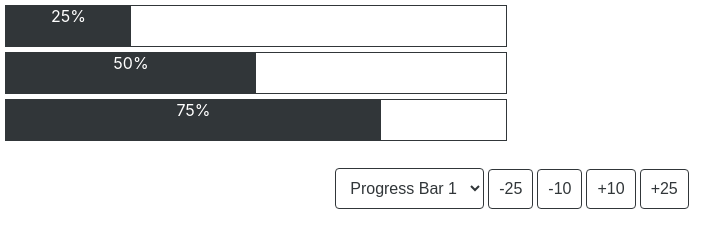
Test: progress bars should be allowed to go past 100% › should allow the second progress to exceed past 100%
# select the second progress bar
Select "Progress Bar 2" in the dropdown: [410, 188] box [335,168,484,209]
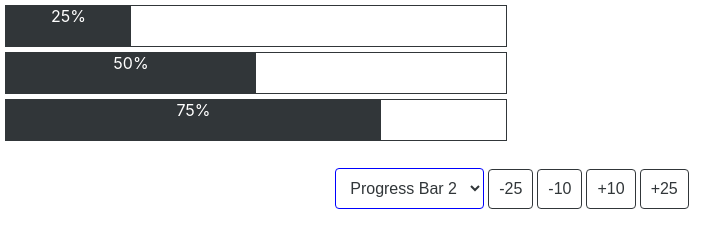
Click the button "+25": [664, 189] box [640,169,689,209]
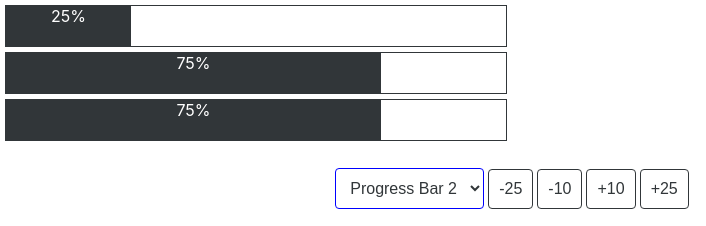
Click the button "+25": [664, 189] box [640,169,689,209]
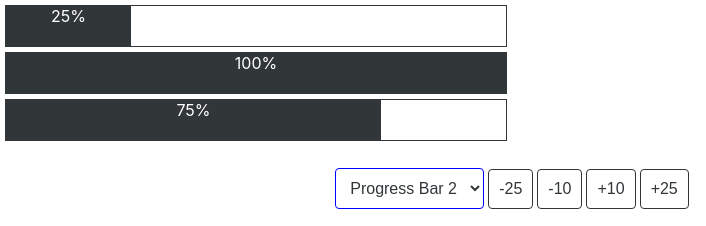
Click the button "+25": [664, 189] box [640,169,689,209]
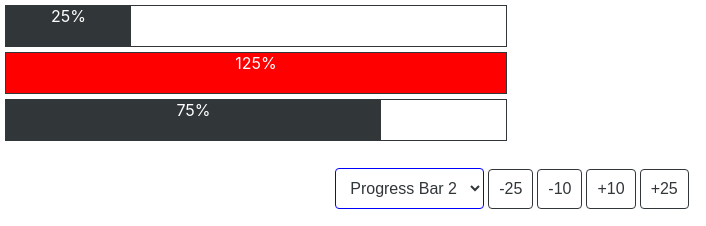
Now the text "50%" reads "125%", box [6,53,506,93]
